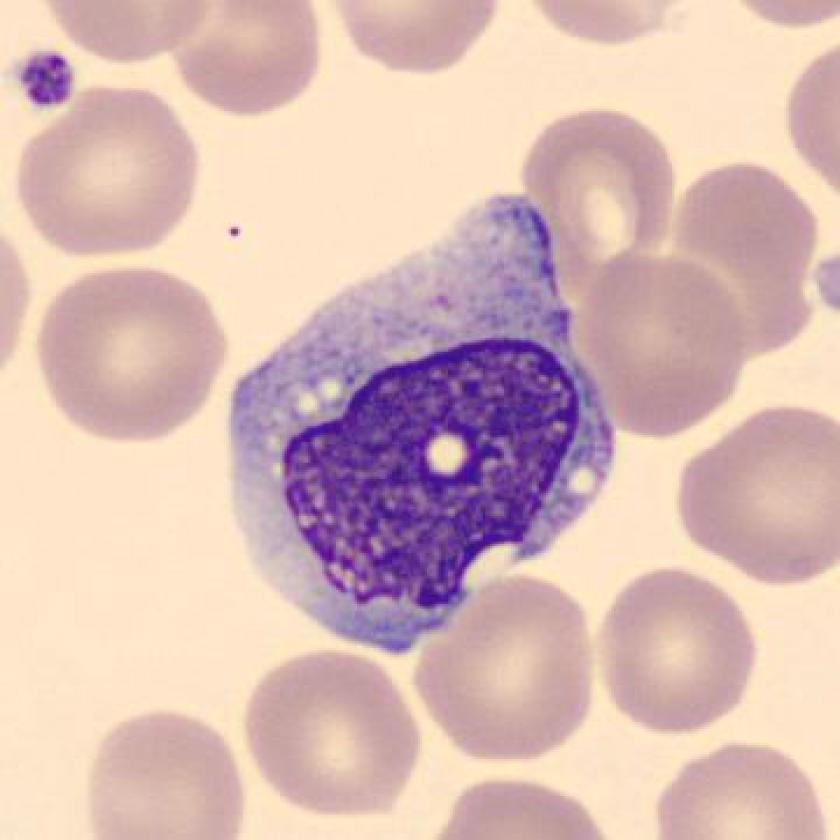monocyte: (202, 177, 626, 670)
